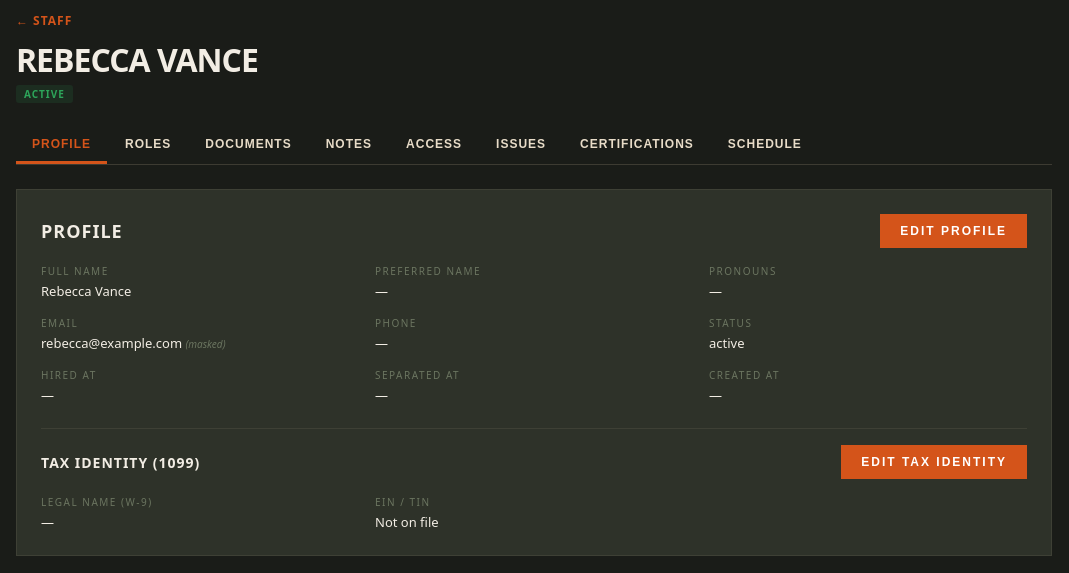
Scenario: AdminStaffDetail — certification actions › offers Edit, Renew and Revoke on an existing certification
Expected: the heading "Rebecca Vance" is shown, [16,38,258,81]
Click the button "Certifications" at (637, 146), box [564,127,710,164]
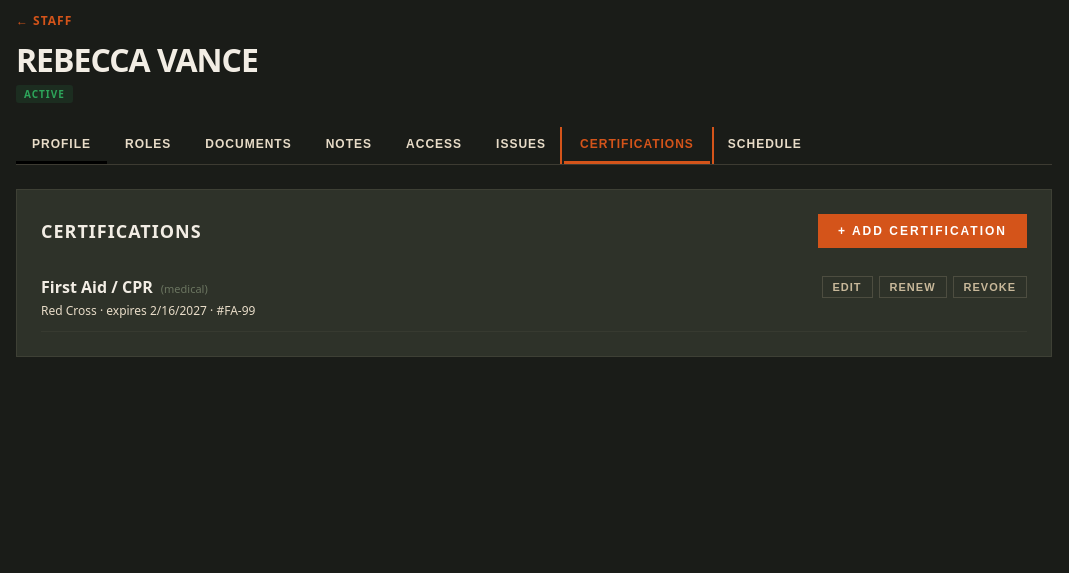
Now the text "First Aid / CPR" is shown, box [41,276,153,298]
Now the button "Renew" is shown, box [879,276,947,298]
Now the button "Revoke" is shown, box [952,276,1027,298]
